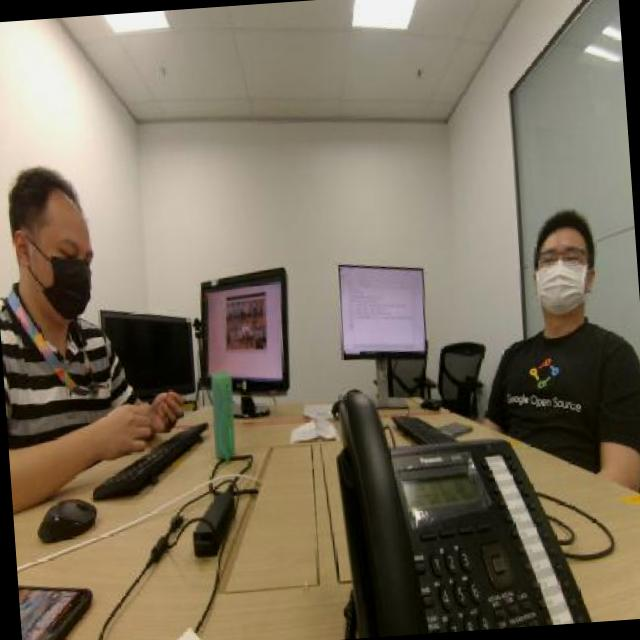Person: (478, 166, 632, 408), (0, 130, 114, 441)
